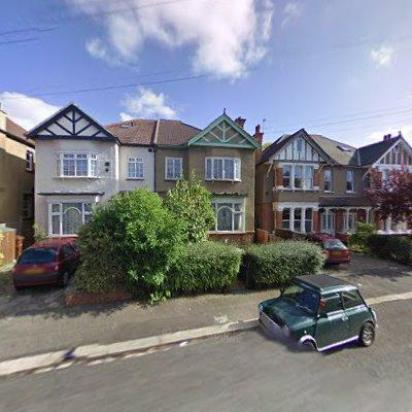stationary-car-offstreet: (11, 233, 84, 289), (301, 232, 351, 268)
stationary-car-onstreet: (257, 272, 379, 352)
